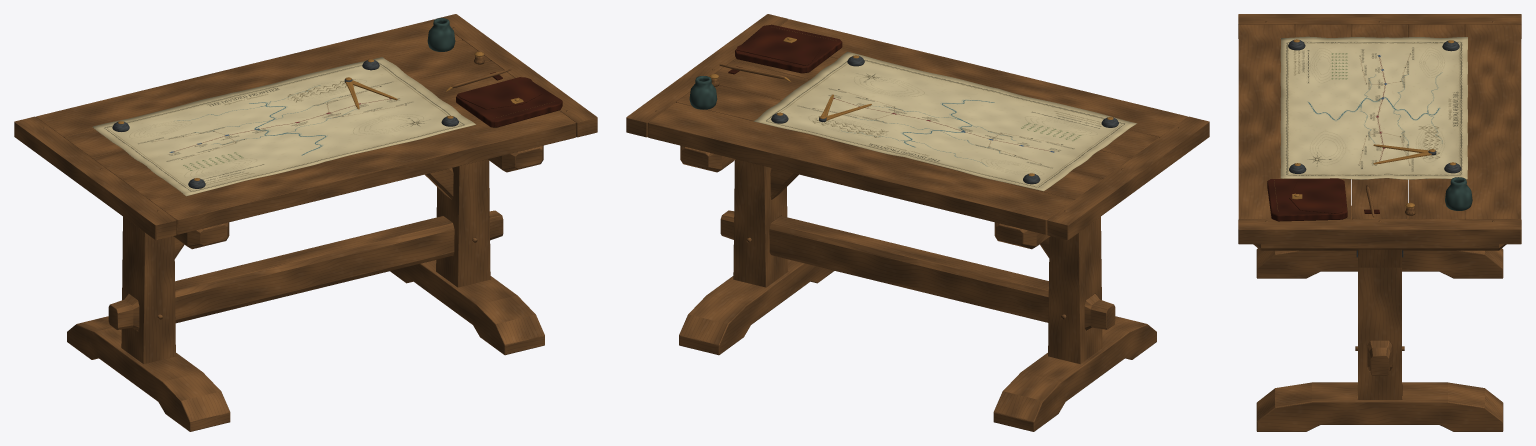
The model's file is frontier_field_command_table_lod0.glb.
The picture shows the model from 3 angles, left to right: view 1: azimuth 30°, elevation 25°; view 2: azimuth 150°, elevation 25°; view 3: azimuth 270°, elevation 25°; orthographic projection.
Visible parts, largest first — view 1: frontier_field_command_table.oak, frontier_field_command_table.parchment, frontier_field_command_table.leather, frontier_field_command_table.ceramic, frontier_field_command_table.iron, frontier_field_command_table.brass; view 2: frontier_field_command_table.oak, frontier_field_command_table.parchment, frontier_field_command_table.leather, frontier_field_command_table.ceramic, frontier_field_command_table.iron; view 3: frontier_field_command_table.oak, frontier_field_command_table.parchment, frontier_field_command_table.leather, frontier_field_command_table.ceramic, frontier_field_command_table.iron, frontier_field_command_table.brass.
Boxes of the visible parts, <box> form: frontier_field_command_table.oak: <box>14,14,597,431</box>; frontier_field_command_table.parchment: <box>92,57,476,196</box>; frontier_field_command_table.leather: <box>456,72,562,127</box>; frontier_field_command_table.ceramic: <box>427,18,455,51</box>; frontier_field_command_table.iron: <box>112,60,458,188</box>; frontier_field_command_table.brass: <box>117,51,523,180</box>; frontier_field_command_table.oak: <box>626,14,1209,431</box>; frontier_field_command_table.parchment: <box>753,51,1137,191</box>; frontier_field_command_table.leather: <box>728,24,842,74</box>; frontier_field_command_table.ceramic: <box>689,76,717,109</box>; frontier_field_command_table.iron: <box>771,56,1118,184</box>; frontier_field_command_table.oak: <box>1238,14,1521,431</box>; frontier_field_command_table.parchment: <box>1280,36,1467,179</box>; frontier_field_command_table.leather: <box>1267,178,1379,221</box>; frontier_field_command_table.ceramic: <box>1445,177,1472,210</box>; frontier_field_command_table.iron: <box>1288,40,1461,257</box>; frontier_field_command_table.brass: <box>1292,39,1456,207</box>.
Size of the model in its own units: 1.8 by 0.976 by 1.
6 materials, 6 textured.
